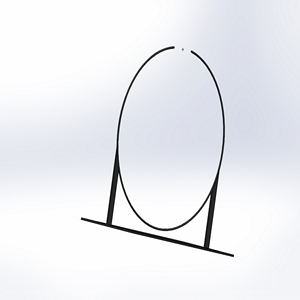circle: (81, 43, 235, 258)
